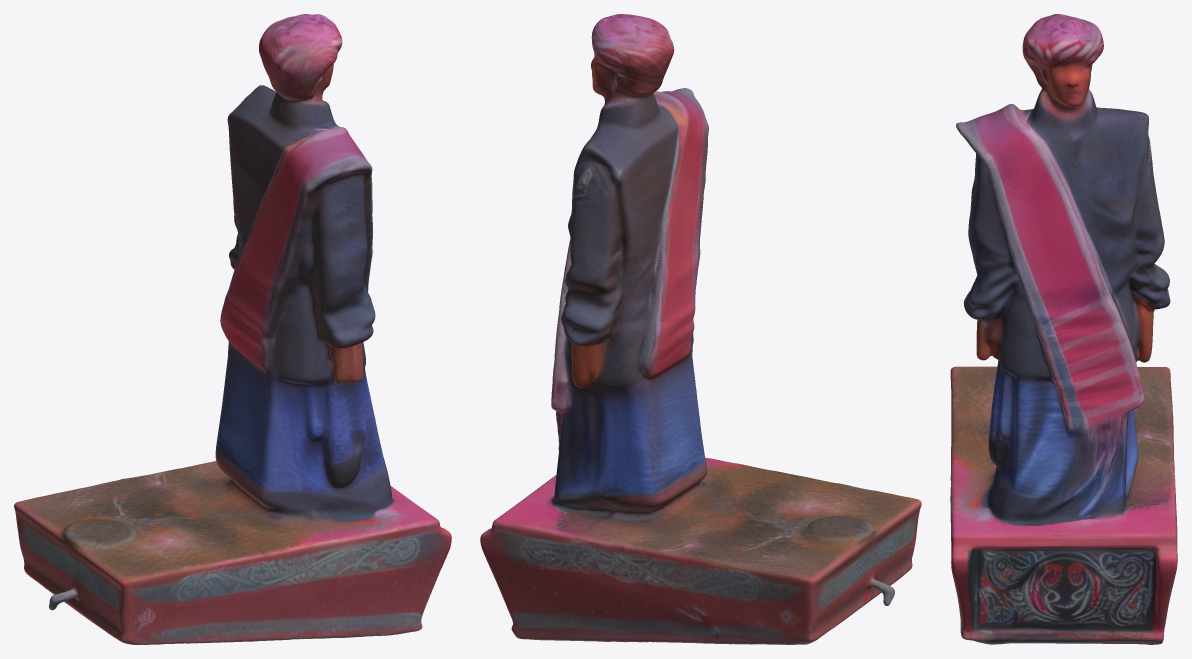
3 views of the same model, side by side, from view 1: azimuth 30°, elevation 25°; view 2: azimuth 150°, elevation 25°; view 3: azimuth 270°, elevation 25° (orthographic).
Visible parts, largest first — view 1: tripo_node_de9f2cbd-c294-44cc-a6bd-49bb698c7ffd; view 2: tripo_node_de9f2cbd-c294-44cc-a6bd-49bb698c7ffd; view 3: tripo_node_de9f2cbd-c294-44cc-a6bd-49bb698c7ffd.
Boxes of the visible parts, x1,y1,x2,y2 form: tripo_node_de9f2cbd-c294-44cc-a6bd-49bb698c7ffd: (14,14,451,644); tripo_node_de9f2cbd-c294-44cc-a6bd-49bb698c7ffd: (480,14,921,644); tripo_node_de9f2cbd-c294-44cc-a6bd-49bb698c7ffd: (950,14,1177,644).
Bounding box in the file's own units: 0.5805 × 0.9412 × 0.3254.
Materials: 1 (1 with a texture image).
